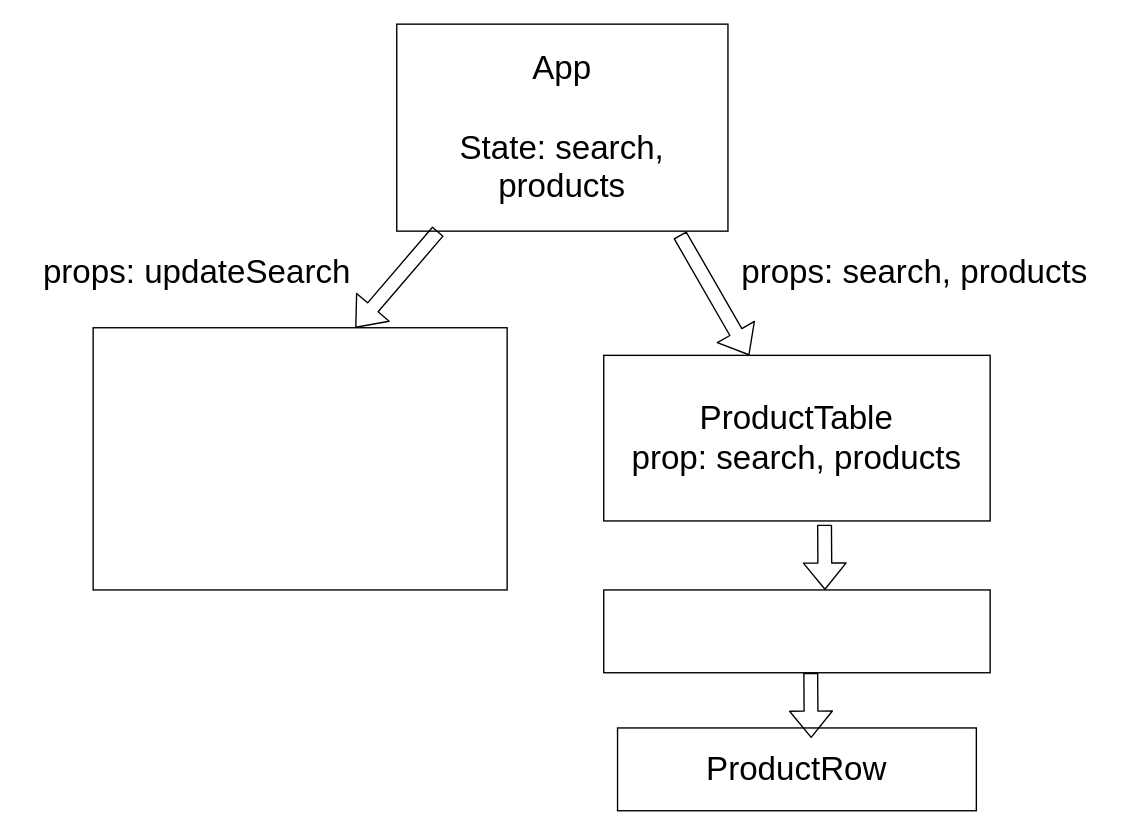
Some shapes in this 1123 by 835 pixel diagram are drawn without their labels. The centre of each missing label's shape, as x and y in pixels:
ProductCategoryRow: the point at 796,631
ProductSearch onSubmit: updateSearch: the point at 299,458
